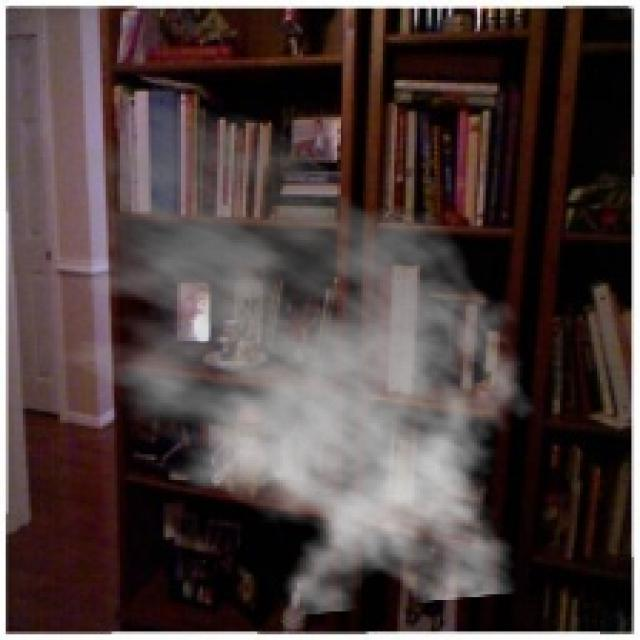Smoke: (29, 97, 552, 617)
